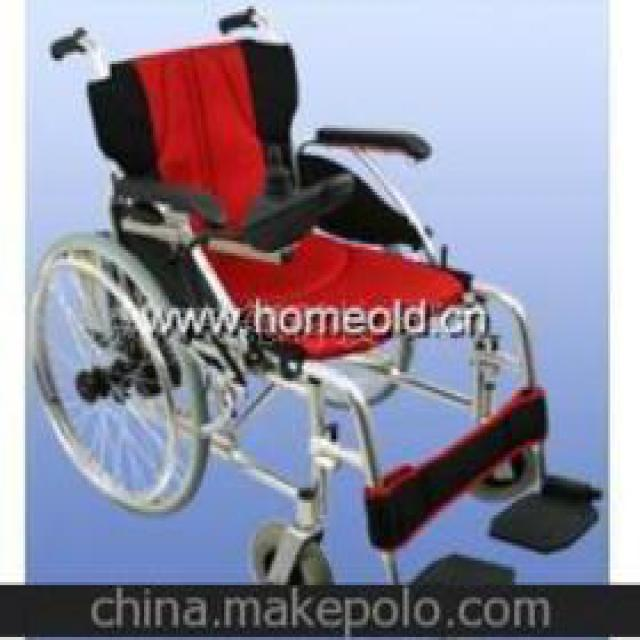wheelchair: (29, 3, 606, 579)
